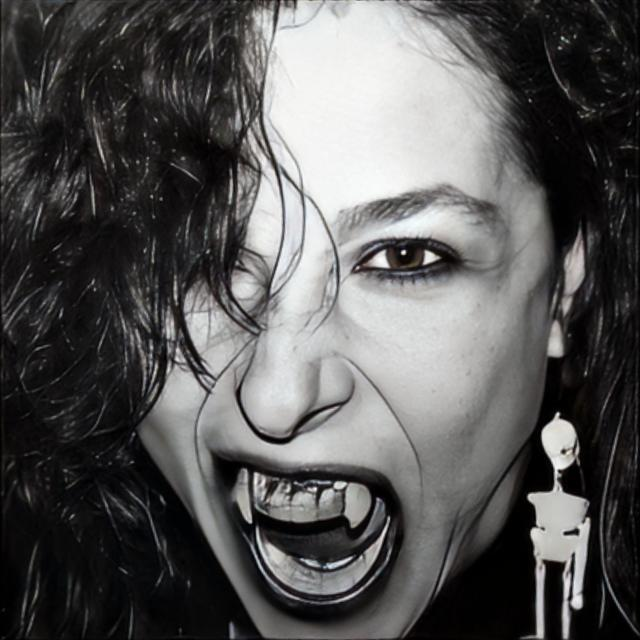anger: (118, 35, 546, 640)
